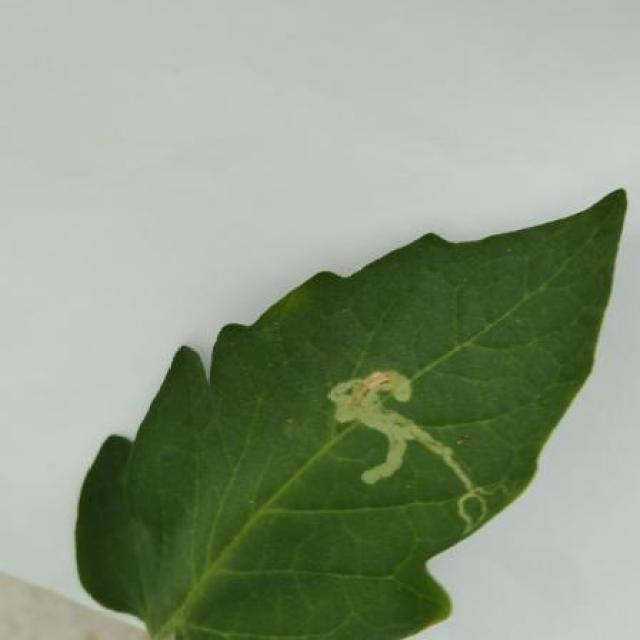Leaf Miner: (76, 183, 628, 640)
